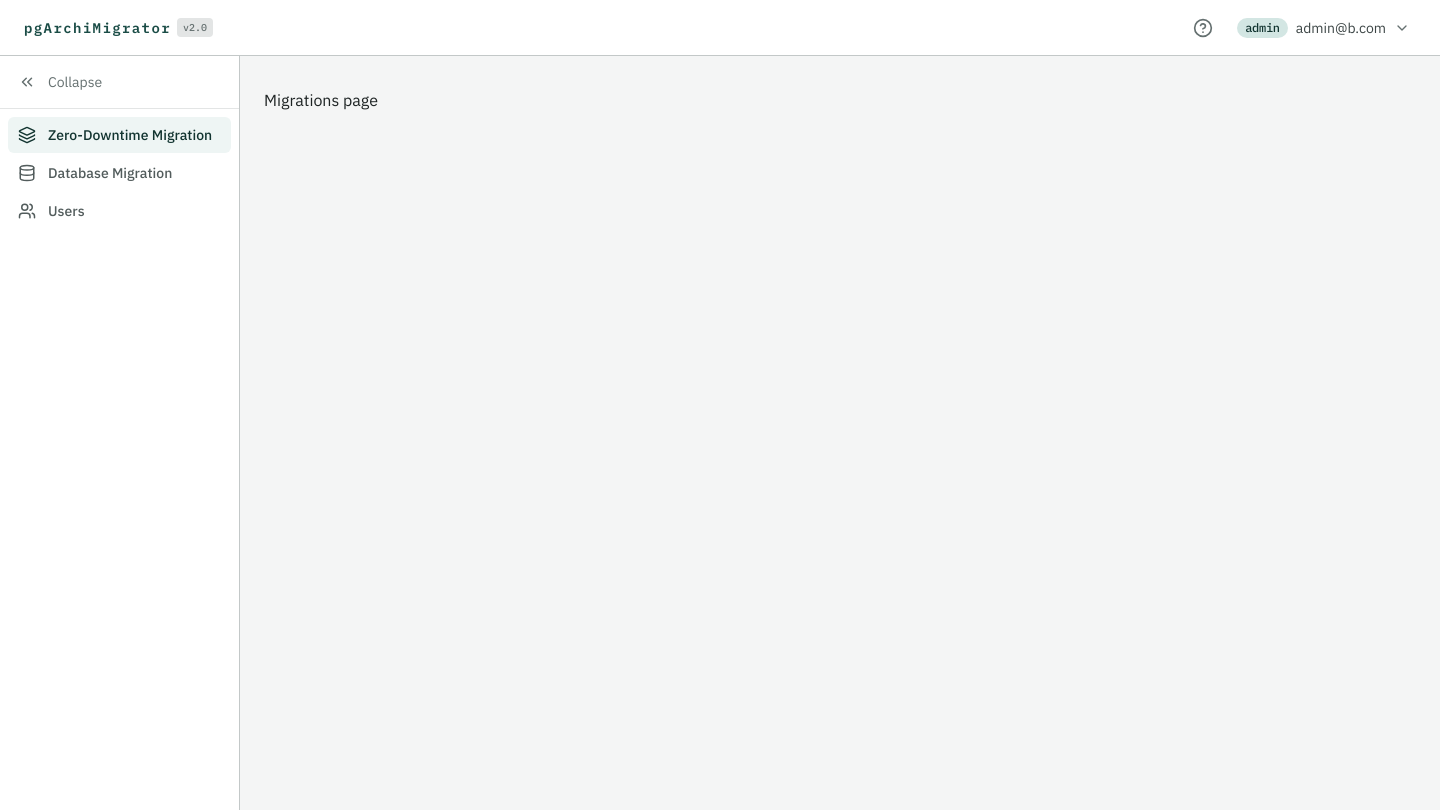
Scenario: Shell — collapsible sidebar › expands again when the toggle is clicked a second time
Click the button named "collapse sidebar": (120, 82) [8, 64, 231, 100]
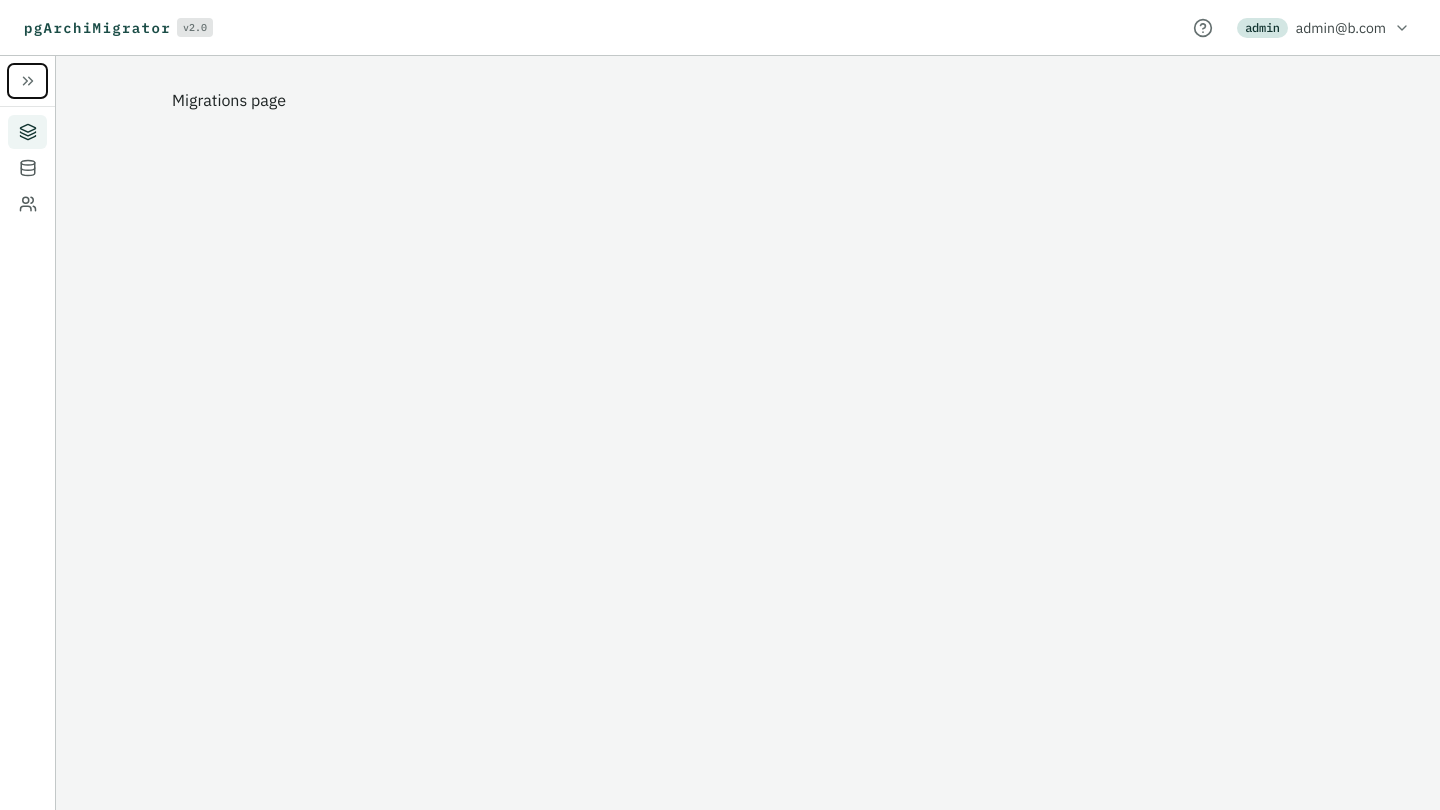
Click the button named "expand sidebar": (28, 81) [8, 64, 47, 98]
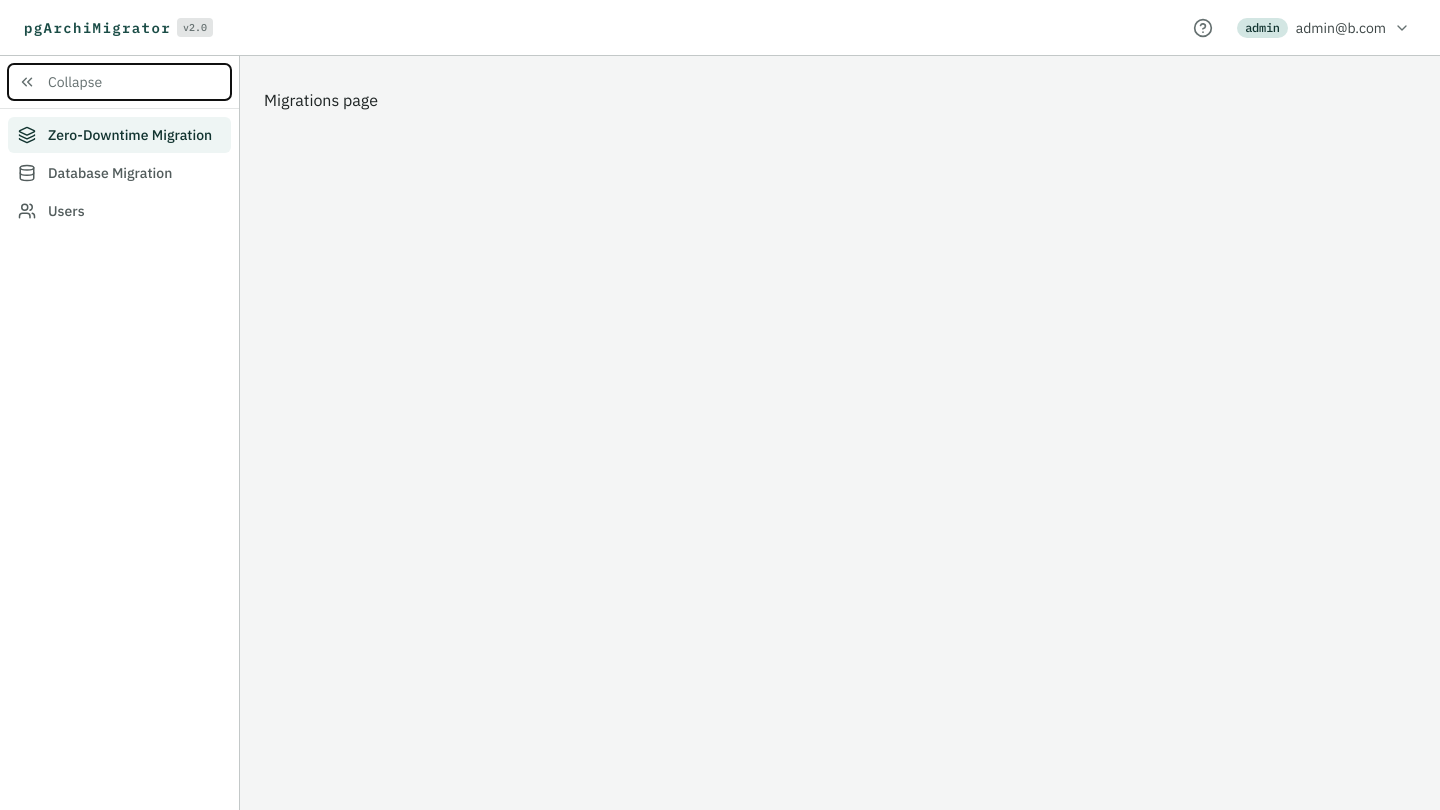
Now the text "Zero-Downtime Migration" is shown, box [48, 125, 212, 145]
